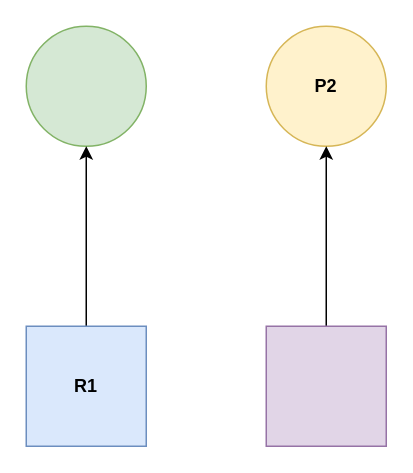
The diagram is 413 pixels wide and 473 high, and some of its shapes have lost their labels. Each missing label, with the centre of its shape:
P1: pixel 85 85
R2: pixel 325 385
